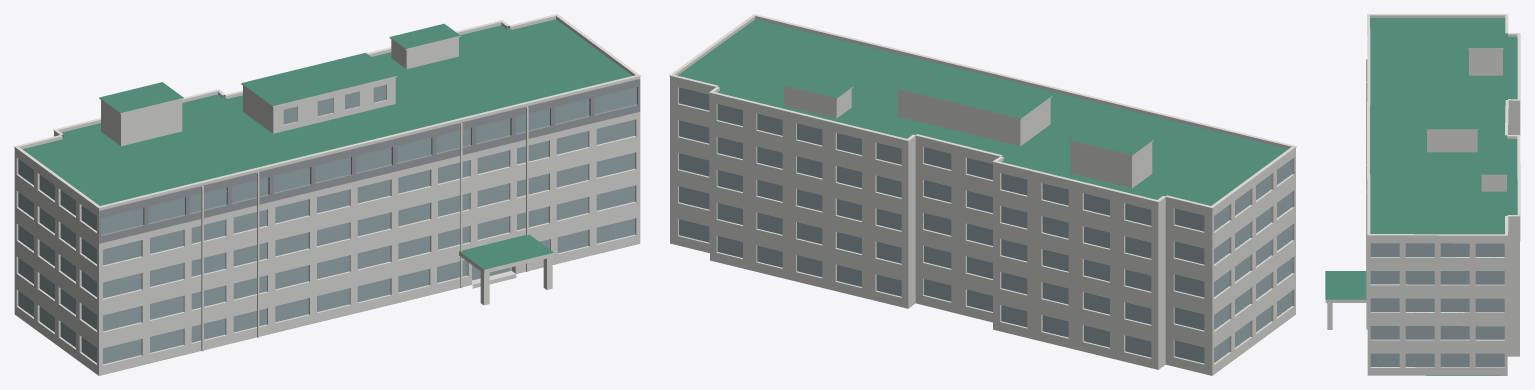
3 renders of one model, left to right at view 1: azimuth 30°, elevation 25°; view 2: azimuth 150°, elevation 25°; view 3: azimuth 270°, elevation 25°, orthographic. The views are drawn at different scales.
Visible parts, largest first — view 1: b115951786__wall, b115951786__glass, b115951786__roof, b115951786__wall2, b115951786__frame, b115951786__trim, b115951786__parapet, b115951786__column; view 2: b115951786__wall, b115951786__roof, b115951786__glass, b115951786__frame, b115951786__trim, b115951786__parapet; view 3: b115951786__roof, b115951786__wall, b115951786__glass, b115951786__trim, b115951786__frame, b115951786__parapet.
Part boxes in pixels (left/top/right/bottom): b115951786__wall: left=14, top=37, right=640, bottom=375; b115951786__glass: left=18, top=85, right=636, bottom=364; b115951786__roof: left=17, top=19, right=639, bottom=375; b115951786__wall2: left=99, top=79, right=640, bottom=243; b115951786__frame: left=18, top=86, right=636, bottom=360; b115951786__trim: left=14, top=14, right=640, bottom=351; b115951786__parapet: left=14, top=16, right=640, bottom=210; b115951786__column: left=480, top=257, right=552, bottom=305; b115951786__wall: left=670, top=78, right=1295, bottom=375; b115951786__roof: left=670, top=19, right=1295, bottom=375; b115951786__glass: left=679, top=87, right=1292, bottom=363; b115951786__frame: left=679, top=91, right=1292, bottom=360; b115951786__trim: left=669, top=14, right=1296, bottom=208; b115951786__parapet: left=670, top=16, right=1295, bottom=210; b115951786__roof: left=1325, top=18, right=1517, bottom=375; b115951786__wall: left=1367, top=48, right=1520, bottom=375; b115951786__glass: left=1370, top=243, right=1504, bottom=367; b115951786__trim: left=1325, top=14, right=1520, bottom=329; b115951786__frame: left=1370, top=243, right=1504, bottom=367; b115951786__parapet: left=1367, top=15, right=1520, bottom=237.
Size of the model in its own units: 62.11 by 22.1 by 23.14.
